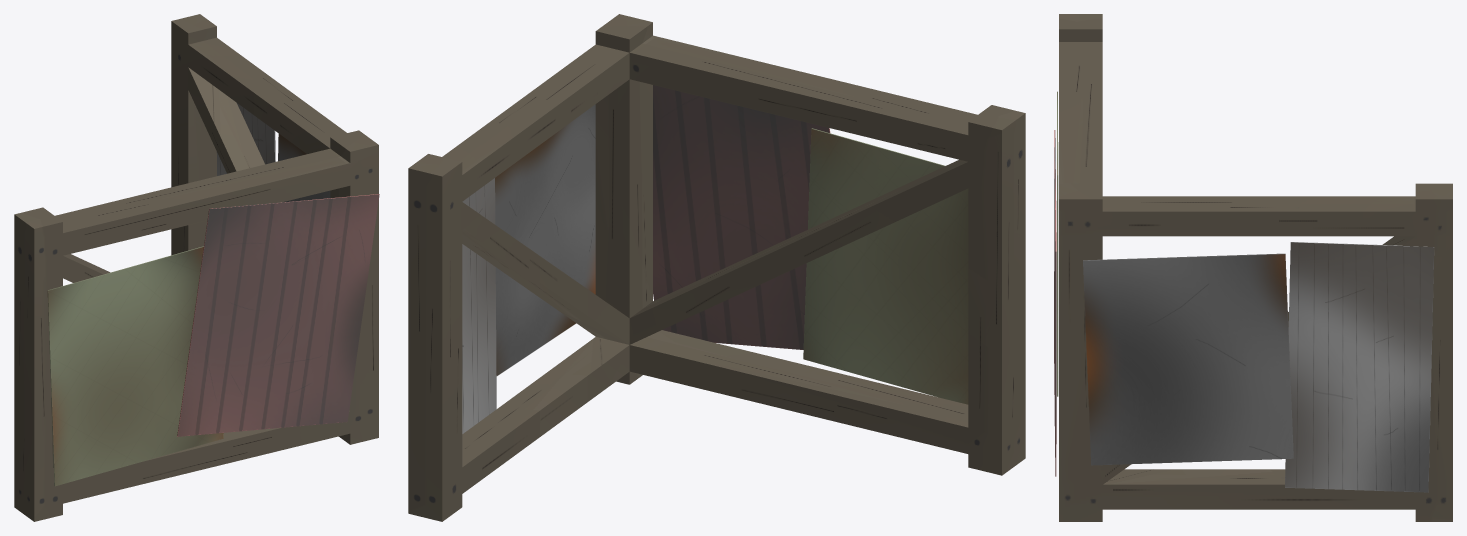
The model's file is Junk Fence Corner.glb.
The picture shows the model from 3 angles, left to right: view 1: azimuth 30°, elevation 25°; view 2: azimuth 150°, elevation 25°; view 3: azimuth 270°, elevation 25°; orthographic projection. The views are drawn at different scales.
Parts seen in each view (by area): view 1: Fence, Metal, Meta3, Metal4, Metal2; view 2: Fence, Meta3, Metal, Metal2, Metal4; view 3: Fence, Metal2, Metal4, Metal, Meta3.
Part boxes in pixels (x1,y1,x2,y2): Fence: (14,14,378,521); Metal: (177,194,379,436); Meta3: (47,246,223,486); Metal4: (216,102,275,175); Metal2: (278,133,330,202); Fence: (408,14,1025,521); Meta3: (803,128,968,404); Metal: (653,85,830,349); Metal2: (495,104,595,375); Metal4: (462,178,496,433); Fence: (1059,14,1452,521); Metal2: (1083,253,1293,465); Metal4: (1285,242,1434,492); Metal: (1054,130,1056,476); Meta3: (1057,91,1058,396).
Bounding box in the file's own units: 2.74 × 2.2 × 2.47.
5 materials, 5 textured.
